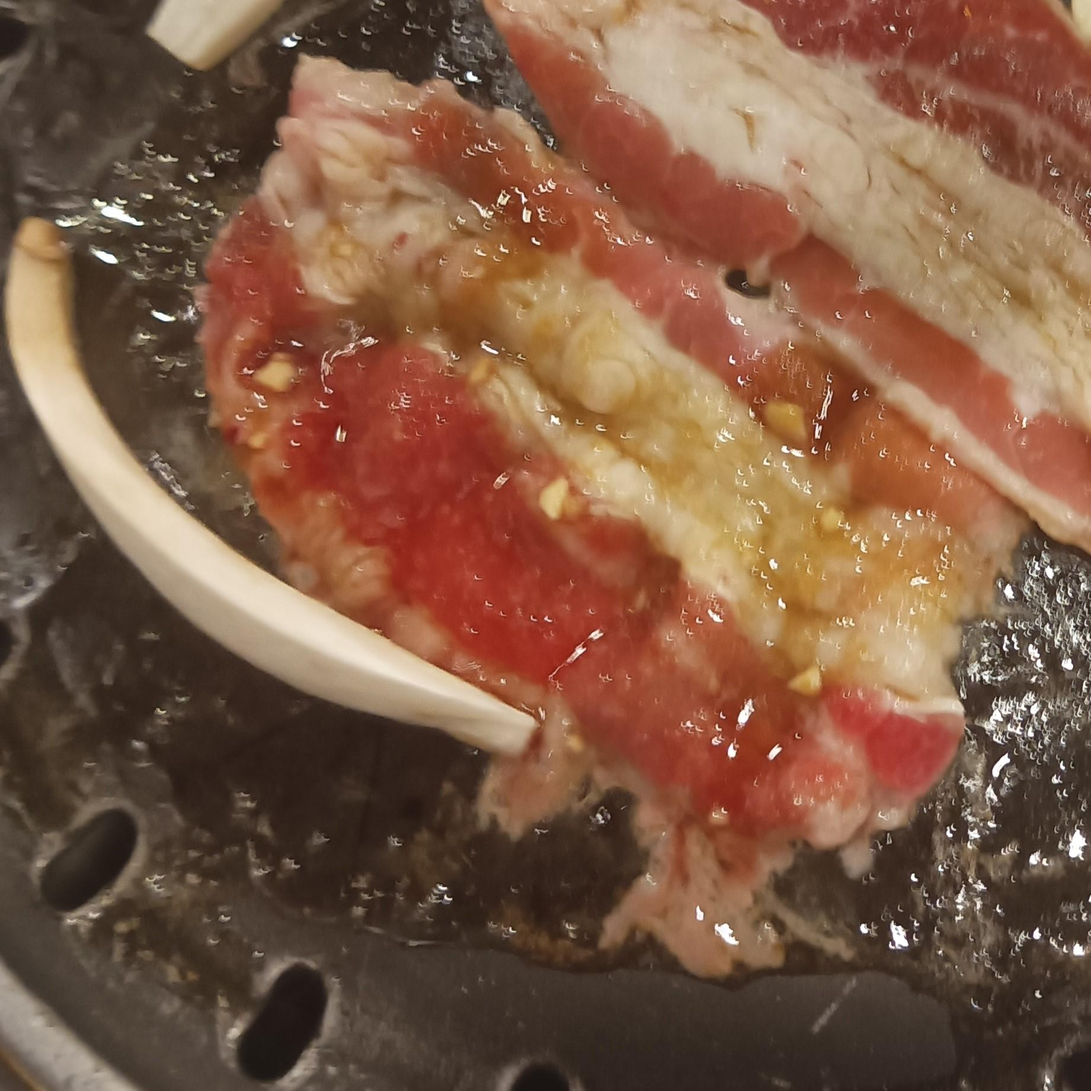Undercooked: (199, 12, 1016, 872), (510, 0, 1090, 494), (726, 0, 1090, 360)
